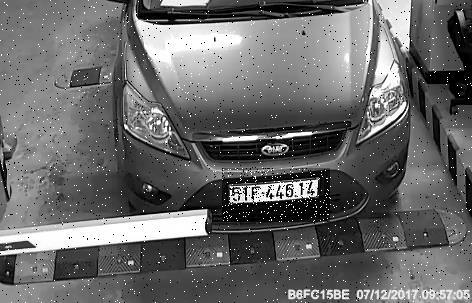License-plate: (224, 169, 333, 223)
